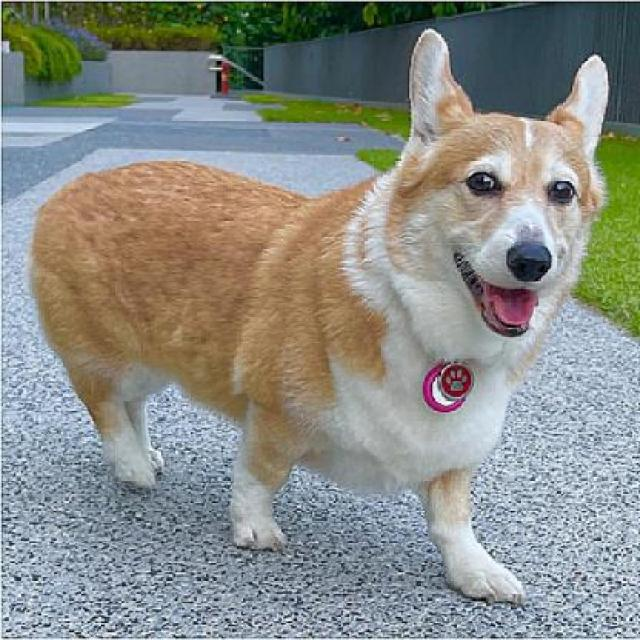Dog: (22, 26, 616, 608)
